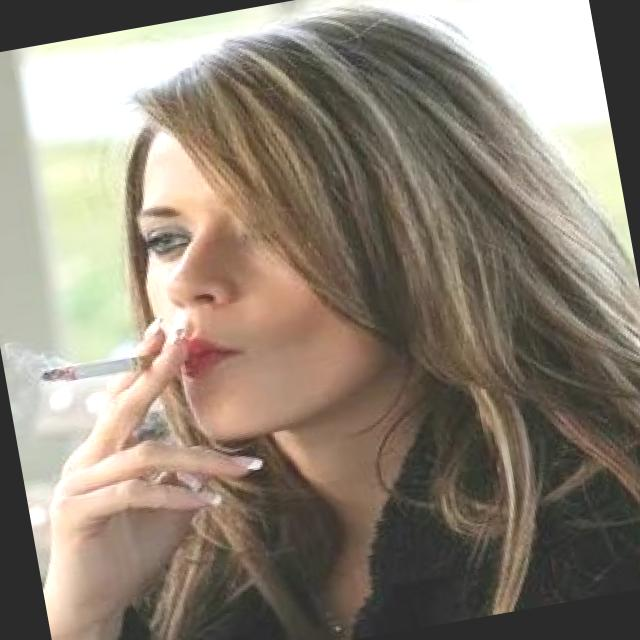smoke: (35, 342, 178, 394)
